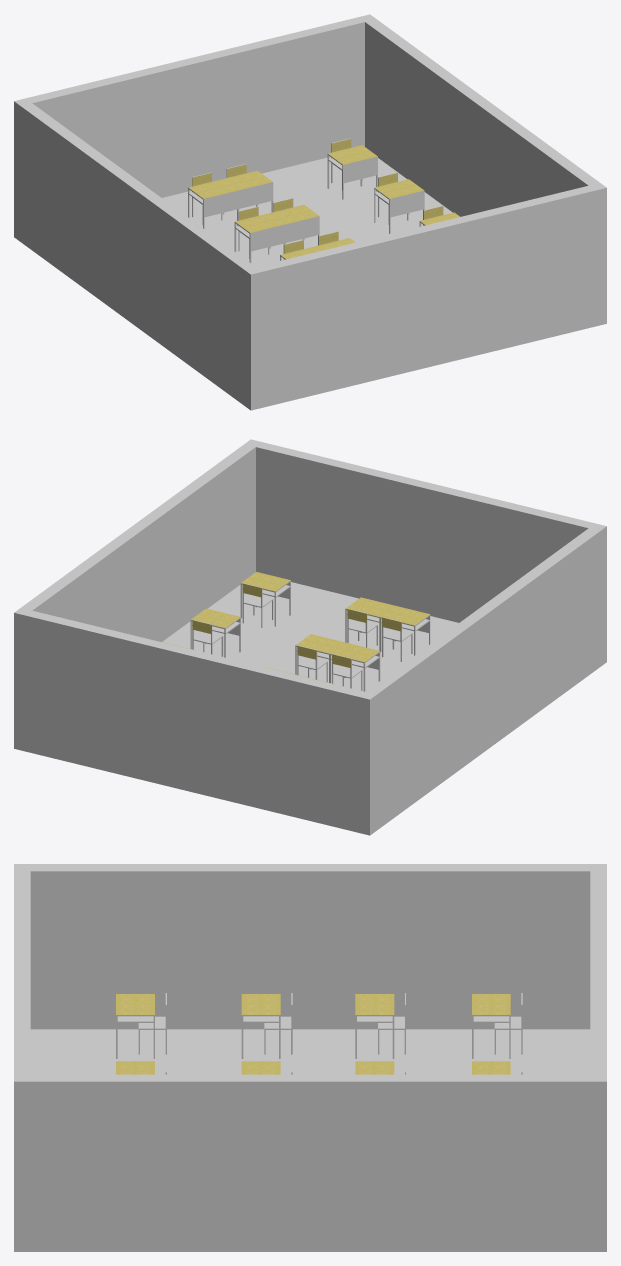
File: class_2.FBX
3 renders of one model, top to bottom at view 1: azimuth 30°, elevation 25°; view 2: azimuth 150°, elevation 25°; view 3: azimuth 270°, elevation 25°, orthographic. The views are drawn at different scales.
Parts seen in each view (by area): view 1: Layer0_001, Object031, Object019, Object021, Object029, Object030, Object020; view 2: Layer0_001, Object011, Object009, Object014, Object016, Object010, Object015; view 3: Layer0_001, Object012, Object017, Object007, Object027, Object014, Object029, Object009, Object019.
Part boxes in pixels (x1,y1,x2,y2): Layer0_001: (14,14,606,410); Object031: (327,138,377,199); Object019: (234,206,284,262); Object021: (374,172,424,233); Object029: (188,172,238,228); Object030: (223,164,273,215); Object020: (270,198,319,248); Layer0_001: (14,439,606,835); Object011: (240,572,290,627); Object009: (380,606,430,661); Object014: (330,642,380,691); Object016: (190,608,240,657); Object010: (345,597,395,650); Object015: (295,634,345,682); Layer0_001: (14,864,606,1251); Object012: (241,993,292,1058); Object017: (355,993,405,1058); Object007: (116,993,166,1058); Object027: (472,993,522,1058); Object014: (241,1060,292,1074); Object029: (472,1060,522,1074); Object009: (116,1060,166,1074); Object019: (355,1060,405,1074).
Bounding box in the file's own units: 767 × 280 × 884.
